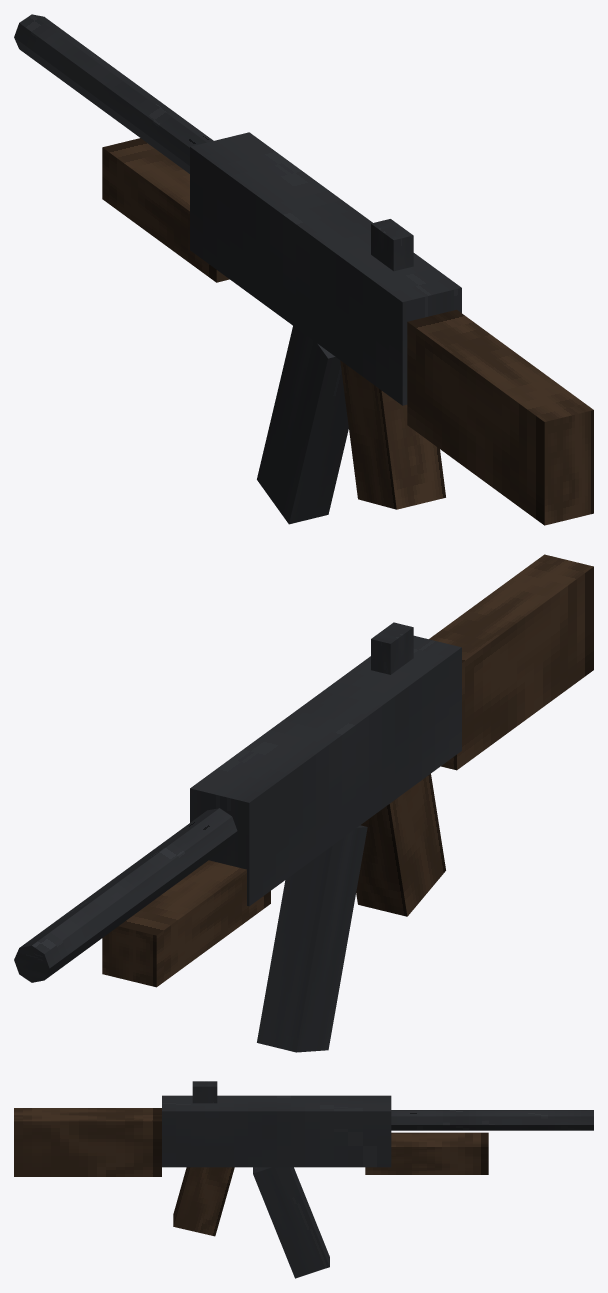
File: gun_ak.glb
3 renders of one model, top to bottom at view 1: azimuth 30°, elevation 25°; view 2: azimuth 150°, elevation 25°; view 3: azimuth 270°, elevation 25°, orthographic. The views are drawn at different scales.
Visible parts, largest first — view 1: Gun_ak; view 2: Gun_ak; view 3: Gun_ak.
Boxes of the visible parts, left/top/right/bottom form: Gun_ak: left=14, top=14, right=593, bottom=525; Gun_ak: left=14, top=554, right=593, bottom=1052; Gun_ak: left=14, top=1081, right=593, bottom=1278.
Size of the model in its own units: 0.06 by 0.3392 by 0.941.
2 materials, 2 textured.
